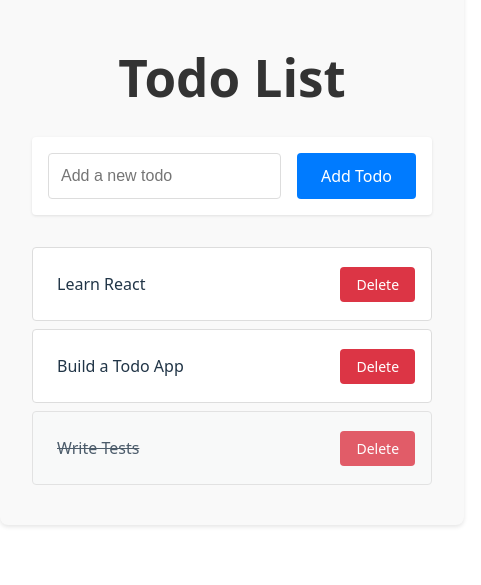
Test: TodoList Component Tests › adds a new todo
Step 1. Type "New Todo" into the field with placeholder "Add a new todo" → (164, 176), box top-left (48, 153), bottom-right (281, 199)
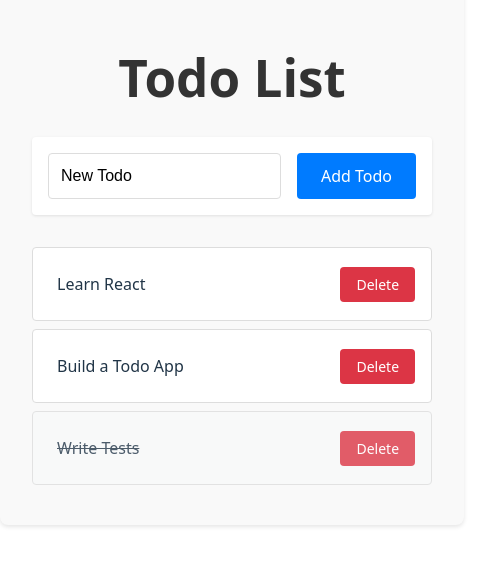
Step 2. Click the button "Add Todo" → (356, 176), box top-left (297, 153), bottom-right (416, 199)
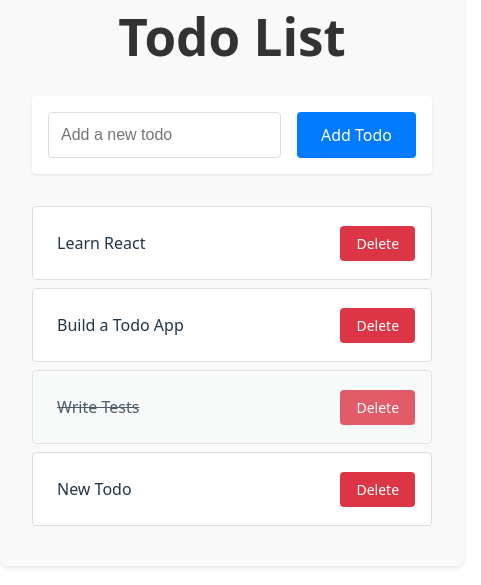
Check: the text "New Todo" is shown, box top-left (57, 478), bottom-right (132, 500)
